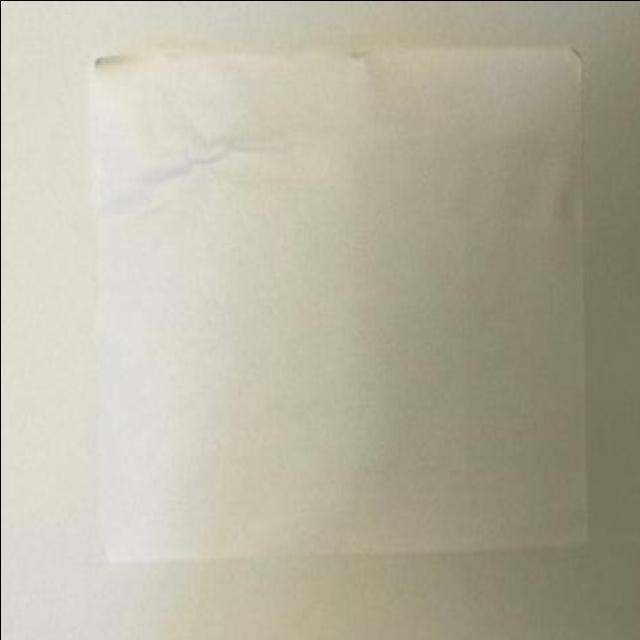kertas: (91, 49, 586, 566)
